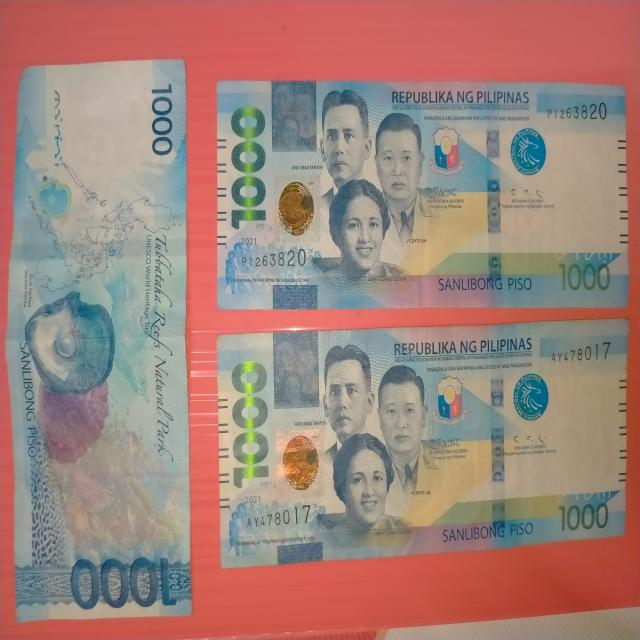concealed_value: (272, 330, 319, 412), (271, 80, 321, 155)
optically_variable_device: (274, 427, 328, 508), (268, 168, 319, 245)
see_through_mark: (547, 235, 616, 270), (548, 480, 615, 508)
